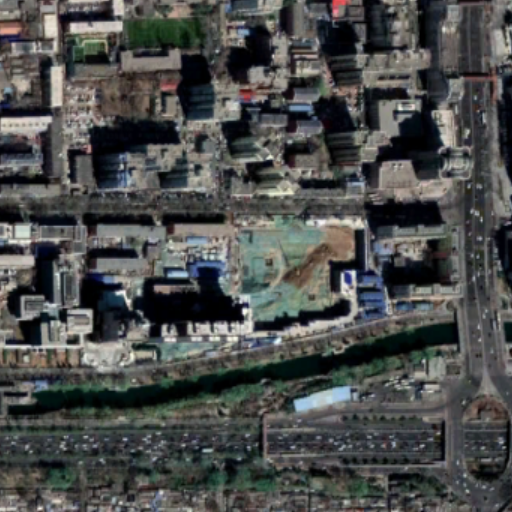cw: (225, 212, 356, 323)
